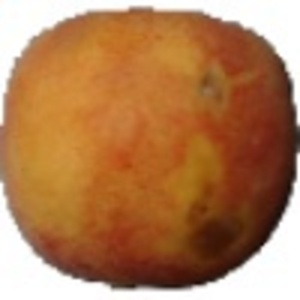pêssego: (1, 2, 300, 292)
